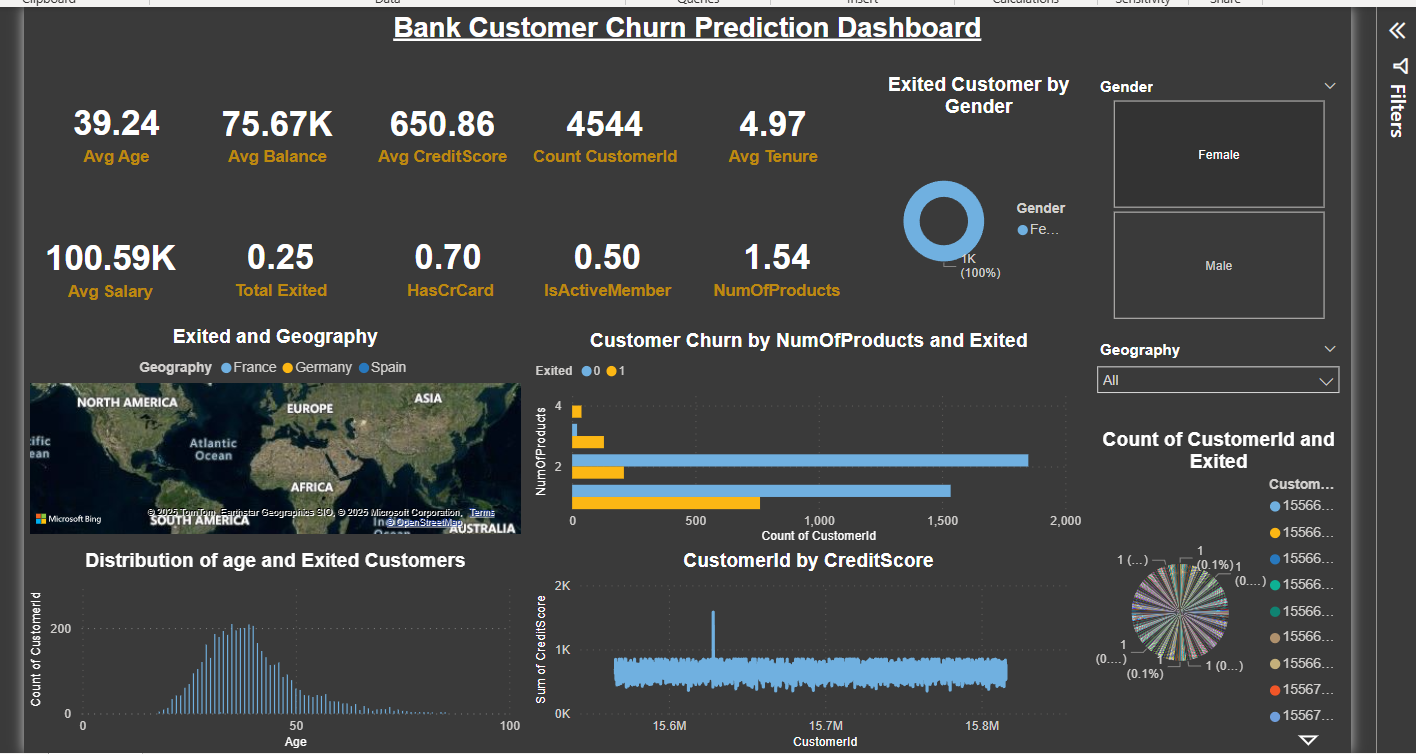

This screenshot's page, from the dashboard's own definition file:
{"tool":"powerbi","page":{"name":"Page 1","canvas":[1280,720],"ordinal":0},"visuals":[{"type":"textbox","box":[0,0,1279.9,53.8],"z":0},{"type":"textbox","box":[1043.9,167.5,12.2,149.1],"z":1000},{"type":"card","fields":{"Values":["Avg(Churn_Modelling (1).Age)"]},"box":[0,64.4,178.2,112.4],"z":2000},{"type":"card","fields":{"Values":["CountNonNull(Churn_Modelling (1).CustomerId)"]},"box":[483.6,63.9,154.4,113.4],"z":3000},{"type":"card","fields":{"Values":["Avg(Churn_Modelling (1).Balance)"]},"box":[165.2,63.9,159.2,113.4],"z":4000},{"type":"card","fields":{"Values":["Avg(Churn_Modelling (1).CreditScore)"]},"box":[324.4,63.9,159.2,113.4],"z":5000},{"type":"card","fields":{"Values":["Avg(Churn_Modelling (1).Tenure)"]},"box":[636.8,63.9,172.5,113.4],"z":6000},{"type":"card","fields":{"Values":["Avg(Churn_Modelling (1).EstimatedSalary)"]},"box":[1.4,194.7,164.5,112.4],"z":7000},{"type":"card","fields":{"Values":["Avg(Churn_Modelling (1).Exited)"]},"box":[165.2,193,165.2,113.4],"z":8000},{"type":"card","fields":{"Values":["Avg(Churn_Modelling (1).HasCrCard)"]},"box":[330.5,193,158,113.4],"z":9000},{"type":"card","fields":{"Values":["Avg(Churn_Modelling (1).IsActiveMember)"]},"box":[486,193,154.4,113.4],"z":10000},{"type":"card","fields":{"Values":["Avg(Churn_Modelling (1).NumOfProducts)"]},"box":[640.4,193,172.5,113.4],"z":11000},{"type":"slicer","fields":{"Values":["Churn_Modelling (1).Gender"]},"box":[1025.5,64.4,253.6,244],"z":12000},{"type":"slicer","fields":{"Values":["Churn_Modelling (1).Geography"]},"box":[1025.5,316.7,253.6,89.1],"z":13000},{"type":"donutChart","title":"Exited Customer by Gender","fields":{"Category":["Churn_Modelling (1).Gender"],"Y":["Sum(Churn_Modelling (1).Exited)"]},"box":[813,64.4,216.6,244],"z":14000},{"type":"map","fields":{"Category":["Churn_Modelling (1).Exited"],"Series":["Churn_Modelling (1).Geography"]},"box":[1.4,307.1,482.6,205.7],"z":15000},{"type":"columnChart","title":"Distribution of age and Exited Customers","fields":{"Category":["Churn_Modelling (1).Age"],"Y":["CountNonNull(Churn_Modelling (1).CustomerId)"]},"box":[1,523,483,197],"z":16000},{"type":"clusteredBarChart","title":"Customer Churn by NumOfProducts and Exited","fields":{"Category":["Churn_Modelling (1).NumOfProducts"],"Y":["CountNonNull(Churn_Modelling (1).CustomerId)"],"Series":["Churn_Modelling (1).Exited"]},"box":[488.1,311.2,537.5,211.1],"z":17000},{"type":"pieChart","title":"Count of CustomerId and Exited","fields":{"Category":["Churn_Modelling (1).CustomerId"],"Y":["Sum(Churn_Modelling (1).Exited)"]},"box":[1025.5,405.8,255,314],"z":18000},{"type":"lineChart","title":" CustomerId by CreditScore","fields":{"Category":["Churn_Modelling (1).CustomerId"],"Y":["Sum(Churn_Modelling (1).CreditScore)"]},"box":[488,523,537,197],"z":19000}]}

Visuals, with their boxes on the page's 1280x720 design canvas (x1, y1, x2, y2). These are canvas units, not pixel positions in the 1416x754 screenshot, which may show the page scaled, cropped or inside an application window:
textbox: {"left": 0, "top": 0, "right": 1280, "bottom": 54}
textbox: {"left": 1044, "top": 168, "right": 1056, "bottom": 317}
card - Avg(Churn_Modelling (1).Age): {"left": 0, "top": 64, "right": 178, "bottom": 177}
card - CountNonNull(Churn_Modelling (1).CustomerId): {"left": 484, "top": 64, "right": 638, "bottom": 177}
card - Avg(Churn_Modelling (1).Balance): {"left": 165, "top": 64, "right": 324, "bottom": 177}
card - Avg(Churn_Modelling (1).CreditScore): {"left": 324, "top": 64, "right": 484, "bottom": 177}
card - Avg(Churn_Modelling (1).Tenure): {"left": 637, "top": 64, "right": 809, "bottom": 177}
card - Avg(Churn_Modelling (1).EstimatedSalary): {"left": 1, "top": 195, "right": 166, "bottom": 307}
card - Avg(Churn_Modelling (1).Exited): {"left": 165, "top": 193, "right": 330, "bottom": 306}
card - Avg(Churn_Modelling (1).HasCrCard): {"left": 330, "top": 193, "right": 488, "bottom": 306}
card - Avg(Churn_Modelling (1).IsActiveMember): {"left": 486, "top": 193, "right": 640, "bottom": 306}
card - Avg(Churn_Modelling (1).NumOfProducts): {"left": 640, "top": 193, "right": 813, "bottom": 306}
slicer - Churn_Modelling (1).Gender: {"left": 1026, "top": 64, "right": 1279, "bottom": 308}
slicer - Churn_Modelling (1).Geography: {"left": 1026, "top": 317, "right": 1279, "bottom": 406}
"Exited Customer by Gender" donutChart: {"left": 813, "top": 64, "right": 1030, "bottom": 308}
map - Churn_Modelling (1).Exited x Churn_Modelling (1).Geography: {"left": 1, "top": 307, "right": 484, "bottom": 513}
"Distribution of age and Exited Customers" columnChart: {"left": 1, "top": 523, "right": 484, "bottom": 720}
"Customer Churn by NumOfProducts and Exited" clusteredBarChart: {"left": 488, "top": 311, "right": 1026, "bottom": 522}
"Count of CustomerId and Exited" pieChart: {"left": 1026, "top": 406, "right": 1280, "bottom": 720}
" CustomerId by CreditScore" lineChart: {"left": 488, "top": 523, "right": 1025, "bottom": 720}
